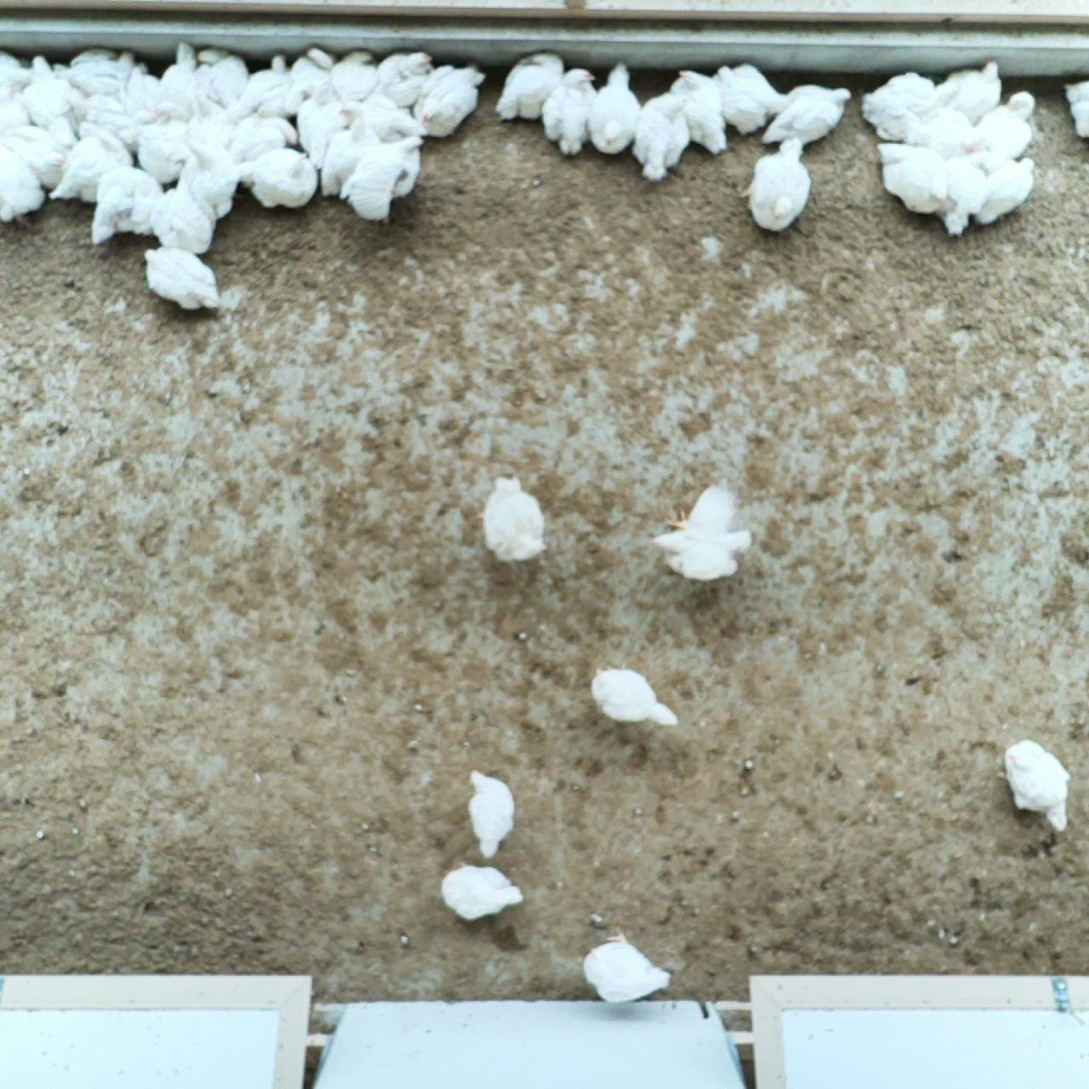chicken: (651, 485, 763, 582), (337, 130, 427, 223), (579, 923, 675, 1007), (476, 470, 552, 564), (709, 60, 795, 141), (88, 166, 173, 247), (761, 80, 860, 149), (20, 52, 85, 155), (744, 136, 811, 234), (1004, 738, 1073, 832), (589, 664, 683, 732), (668, 67, 733, 164), (66, 84, 140, 169), (936, 137, 996, 241), (876, 139, 951, 218), (230, 145, 321, 210), (47, 135, 128, 208), (172, 139, 243, 222), (411, 63, 486, 140), (930, 58, 1010, 130), (860, 69, 934, 146), (629, 92, 689, 185), (462, 768, 520, 864), (435, 864, 529, 923), (493, 53, 570, 125), (139, 245, 221, 312), (0, 119, 74, 193), (540, 67, 600, 158), (136, 41, 200, 126), (143, 183, 212, 261), (46, 45, 148, 97), (586, 63, 641, 159), (294, 70, 347, 168), (320, 115, 379, 201), (980, 144, 1041, 227), (971, 89, 1042, 158), (335, 93, 429, 144), (223, 109, 300, 167), (366, 50, 438, 111), (0, 138, 51, 224), (130, 122, 193, 187), (906, 111, 991, 157), (230, 53, 292, 116), (154, 60, 214, 125), (195, 45, 253, 112), (184, 83, 237, 152), (656, 544, 745, 584), (285, 45, 336, 103), (328, 50, 379, 103), (122, 59, 163, 123), (252, 75, 312, 116), (0, 86, 36, 137), (1063, 76, 1089, 141), (0, 48, 36, 91)
